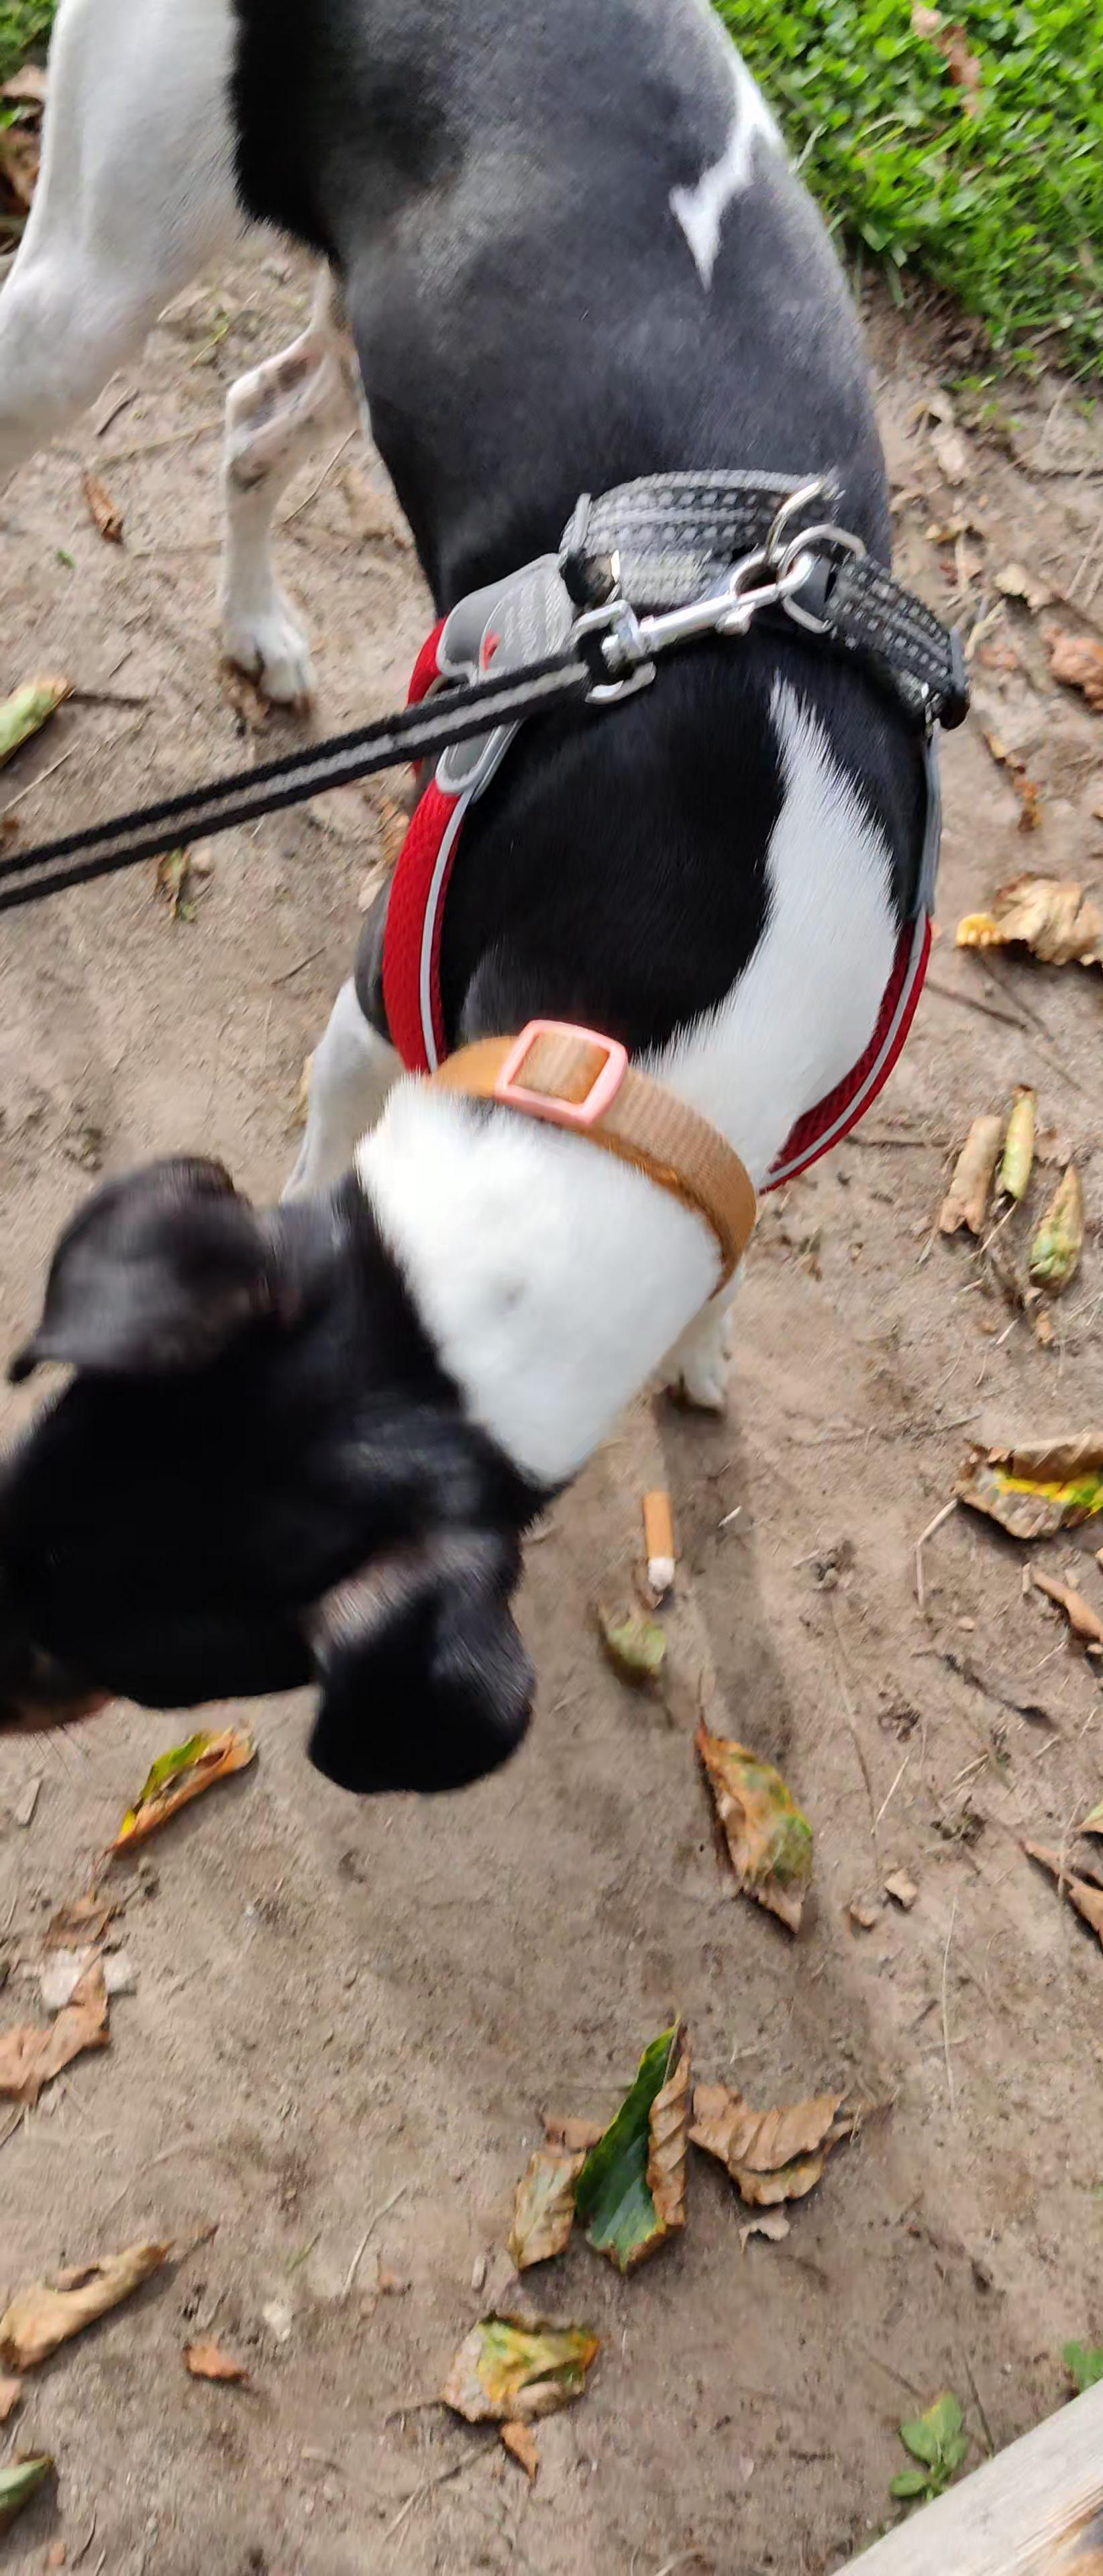Dog: (0, 0, 971, 1812)
